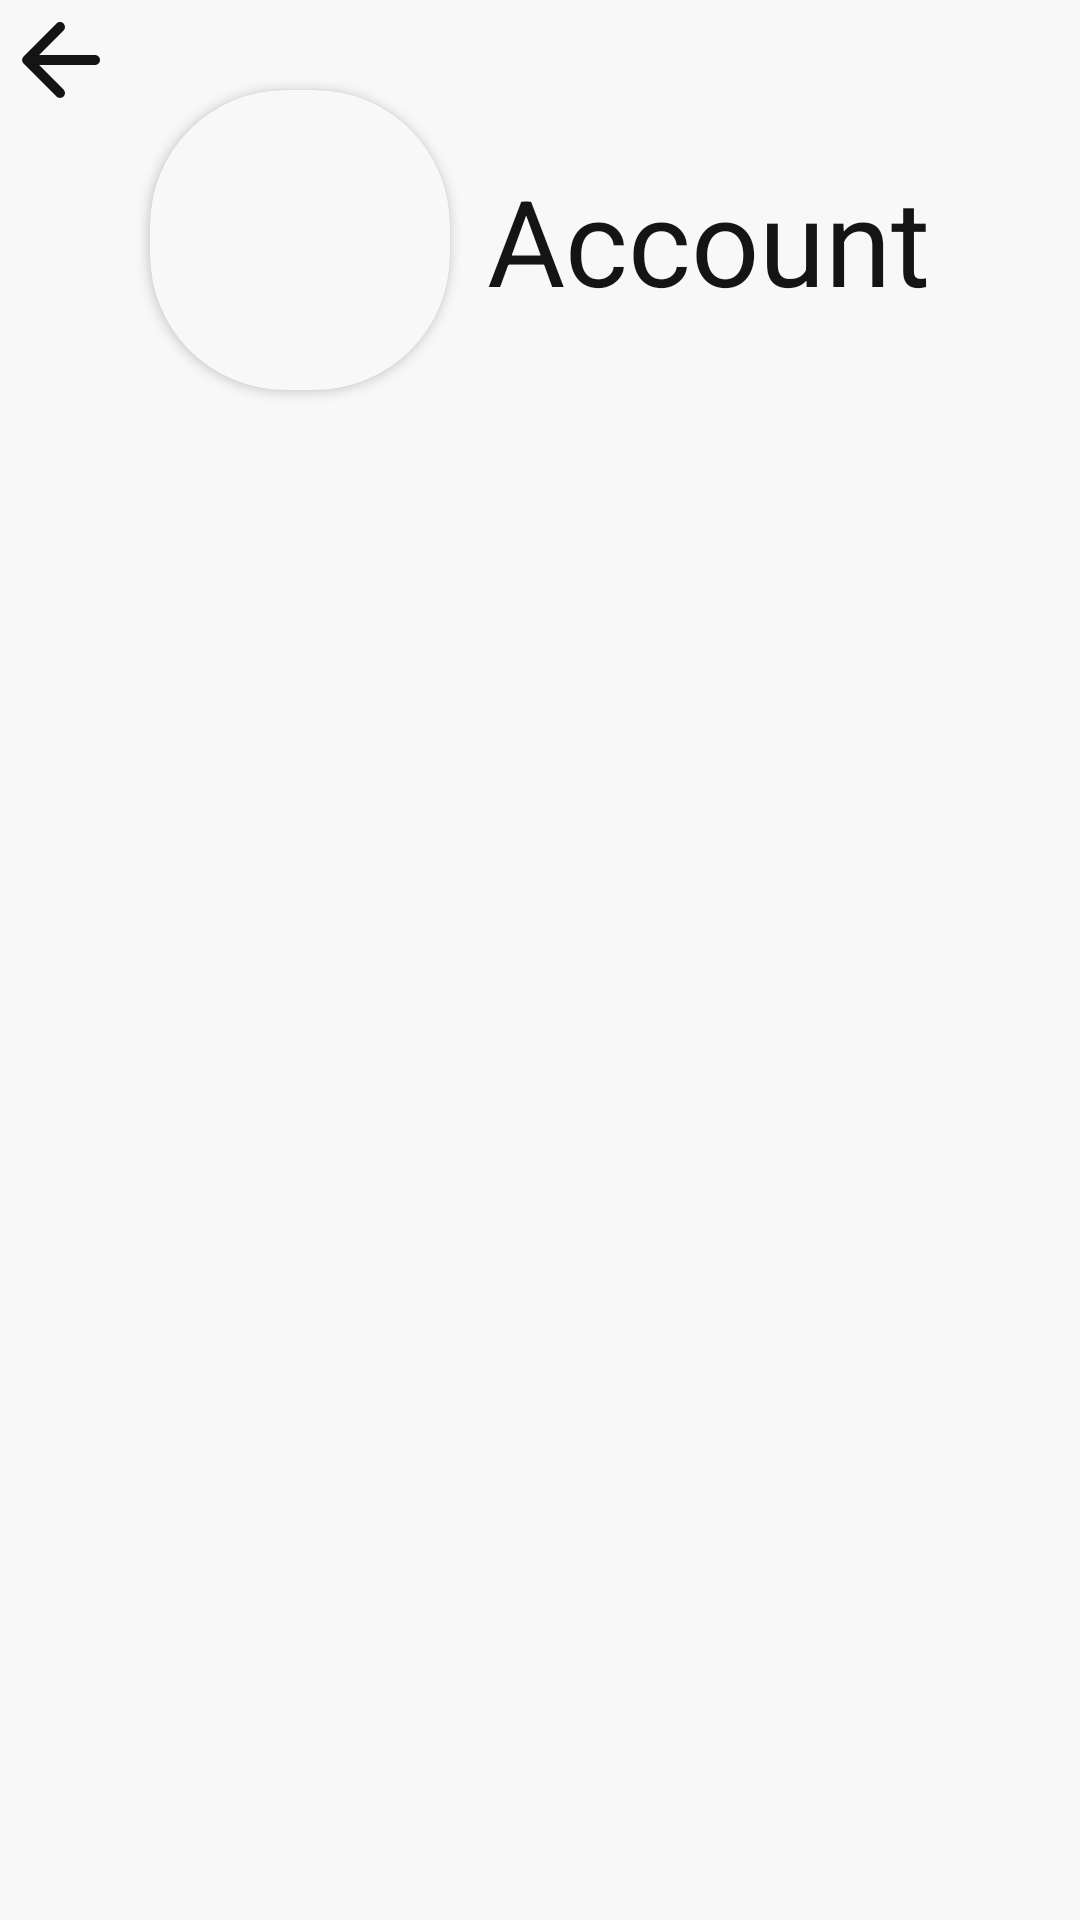

Screen size 1080*1920. Icon name, then its box in pixels as (x1, y1, x2, y2):
arrow back: (22, 22, 100, 98)
